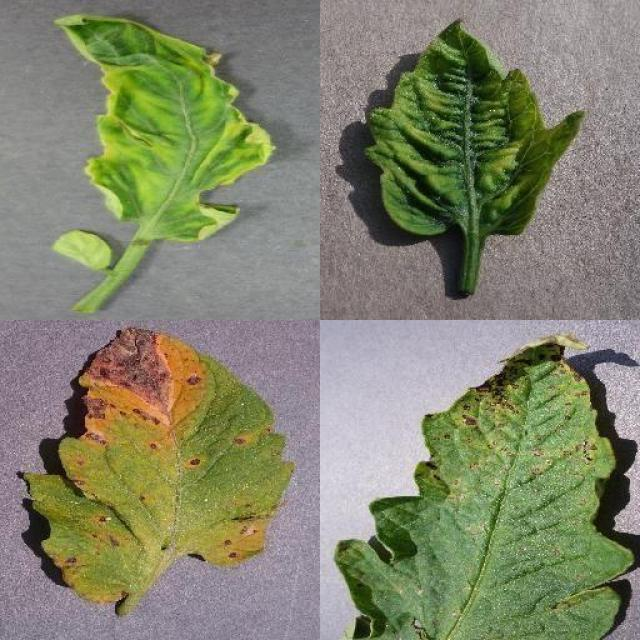Septoria: (336, 334, 634, 640), (24, 326, 298, 602)
